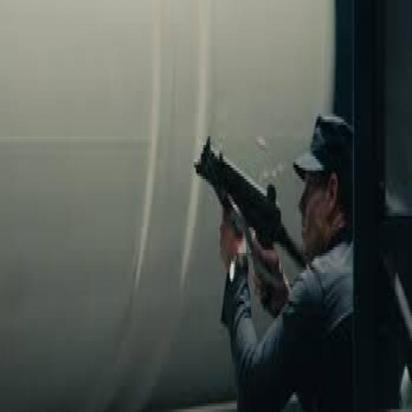Gun: (192, 124, 304, 332)
